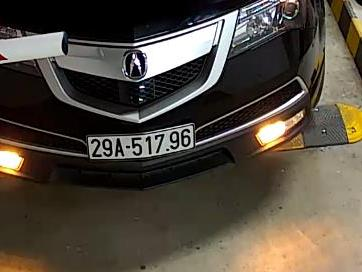car: (86, 123, 195, 161)
